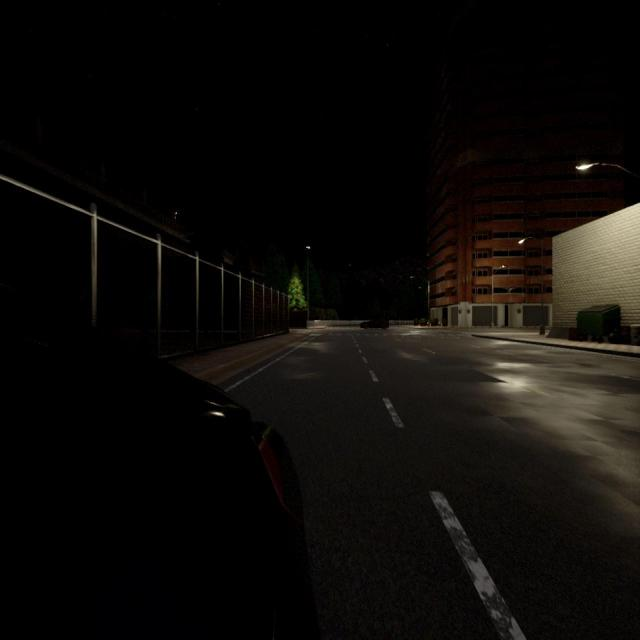Vehicle: (0, 337, 318, 639), (359, 317, 391, 330)
